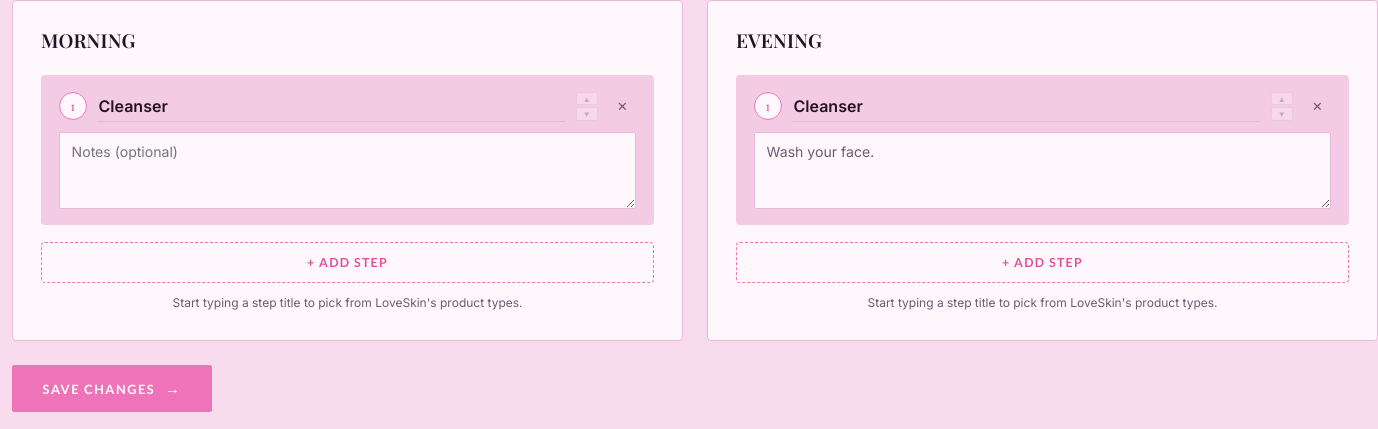
Test: RoutineEditor › auto-fills a step's description from a matched product when the description is empty
Replace the text in the field named "Morning step 1 title" with "Niacinamide serum" at (331, 106), box [97,91,565,122]
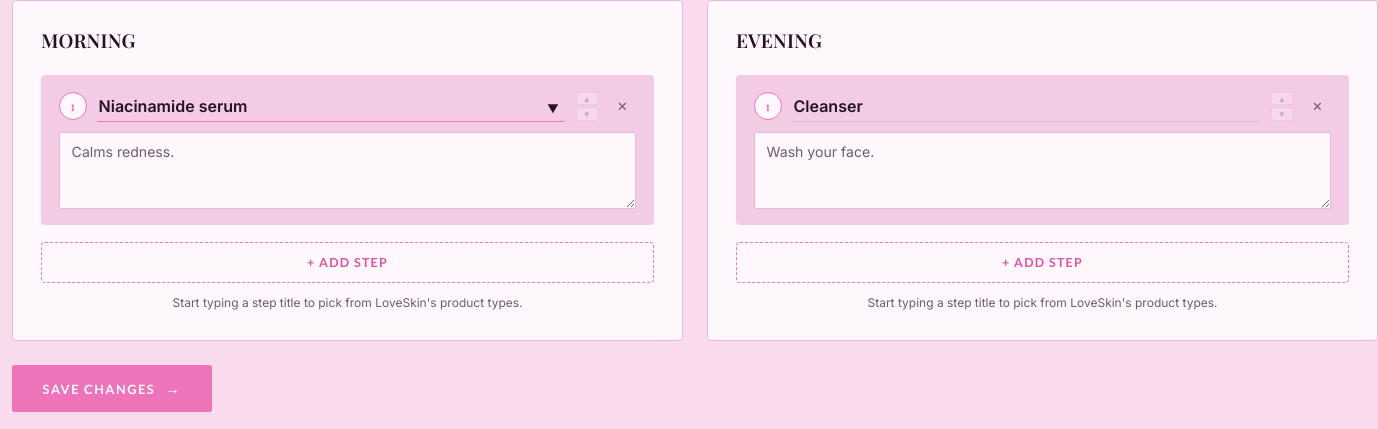
Check: the text box named "Morning step 1 notes" holds "Calms redness.", box [59,132,636,209]
